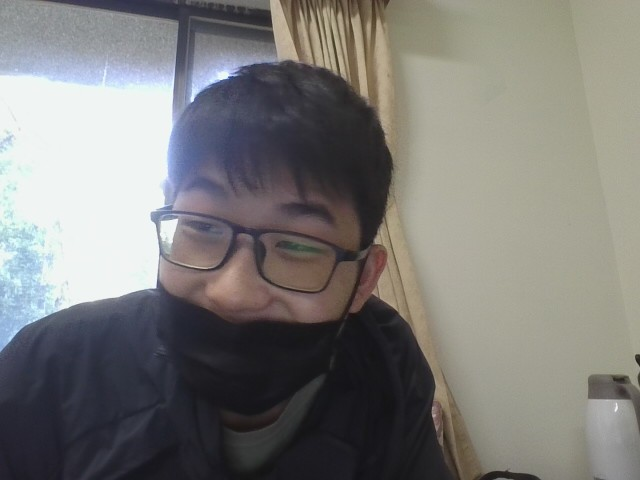No_Helmet: (146, 53, 398, 335)
person: (0, 39, 560, 479)
